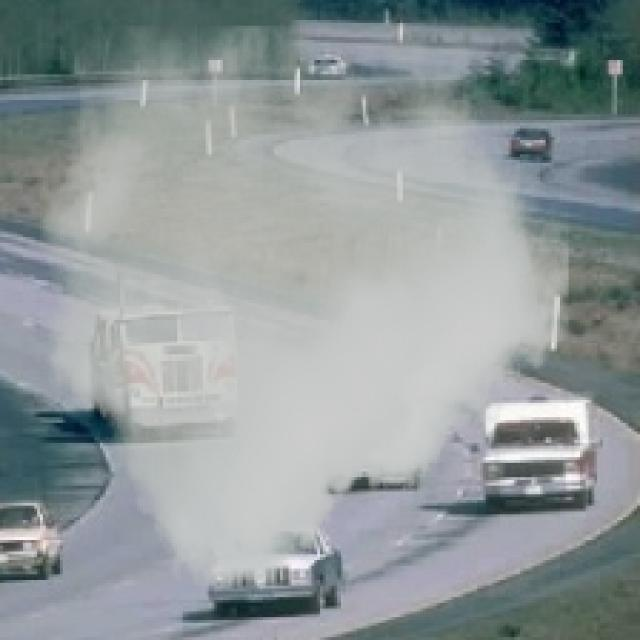Smoke: (40, 26, 569, 586)
